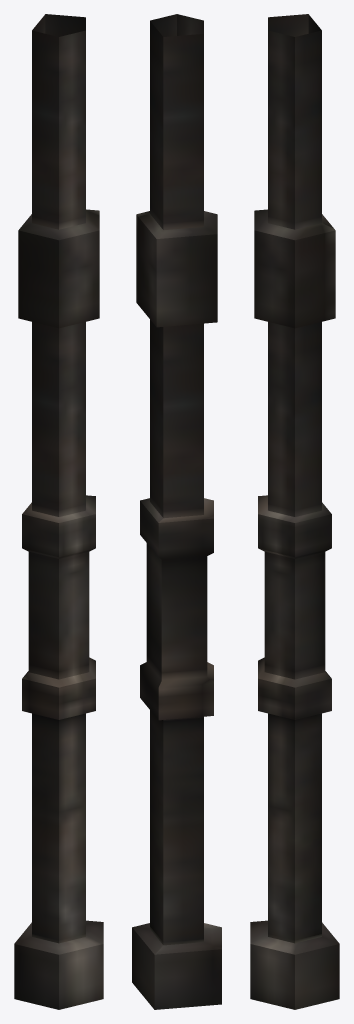
The model's file is SM_EN_2005_guandao01.FBX.
The picture shows the model from 3 angles, left to right: view 1: azimuth 30°, elevation 25°; view 2: azimuth 150°, elevation 25°; view 3: azimuth 330°, elevation 25°; orthographic projection.
Visible parts, largest first — view 1: SM_EN_2005_guandao01; view 2: SM_EN_2005_guandao01; view 3: SM_EN_2005_guandao01.
Part boxes in pixels (left/top/right/bottom): SM_EN_2005_guandao01: left=14, top=14, right=103, bottom=1009; SM_EN_2005_guandao01: left=132, top=14, right=221, bottom=1009; SM_EN_2005_guandao01: left=250, top=14, right=339, bottom=1009.
Bounding box in the file's own units: 9.06 × 93.18 × 7.84.
